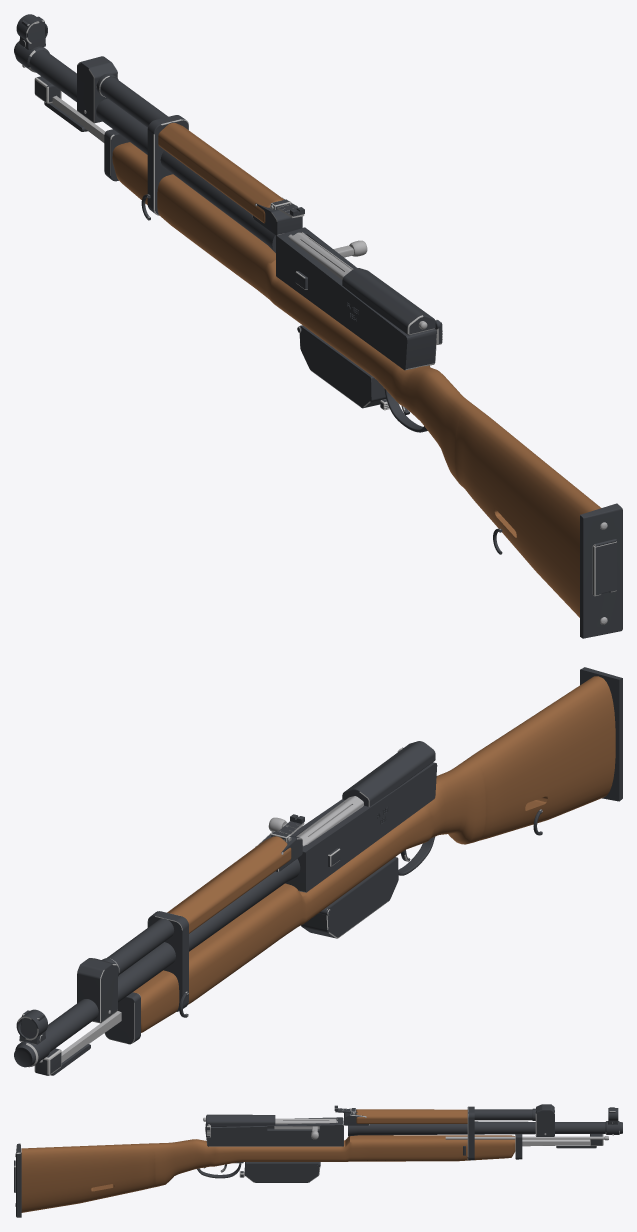
The model's file is sks.glb.
3 renders of one model, top to bottom at view 1: azimuth 30°, elevation 25°; view 2: azimuth 150°, elevation 25°; view 3: azimuth 270°, elevation 25°, orthographic. The views are drawn at different scales.
Visible parts, largest first — view 1: static_barrel, static, static_butt, bolt_carrier, bayonet; view 2: static_barrel, static, static_butt, bolt_carrier, bayonet; view 3: static_barrel, static, static_butt, bolt_carrier, bayonet.
Part boxes in pixels (x1,y1,x2,y2): static_barrel: (14,14,304,297); static: (264,227,476,484); static_butt: (455,406,622,638); bolt_carrier: (288,232,367,279); bayonet: (44,95,105,142); static_barrel: (14,814,304,1075); static: (283,741,486,938); static_butt: (465,667,622,840); bolt_carrier: (268,796,363,846); bayonet: (50,1011,121,1075); static_barrel: (334,1104,622,1161); static: (155,1114,352,1187); static_butt: (14,1143,154,1217); bolt_carrier: (274,1118,337,1139); bayonet: (522,1140,596,1148).
Bounding box in the file's own units: 0.0714 × 0.2015 × 1.05.
